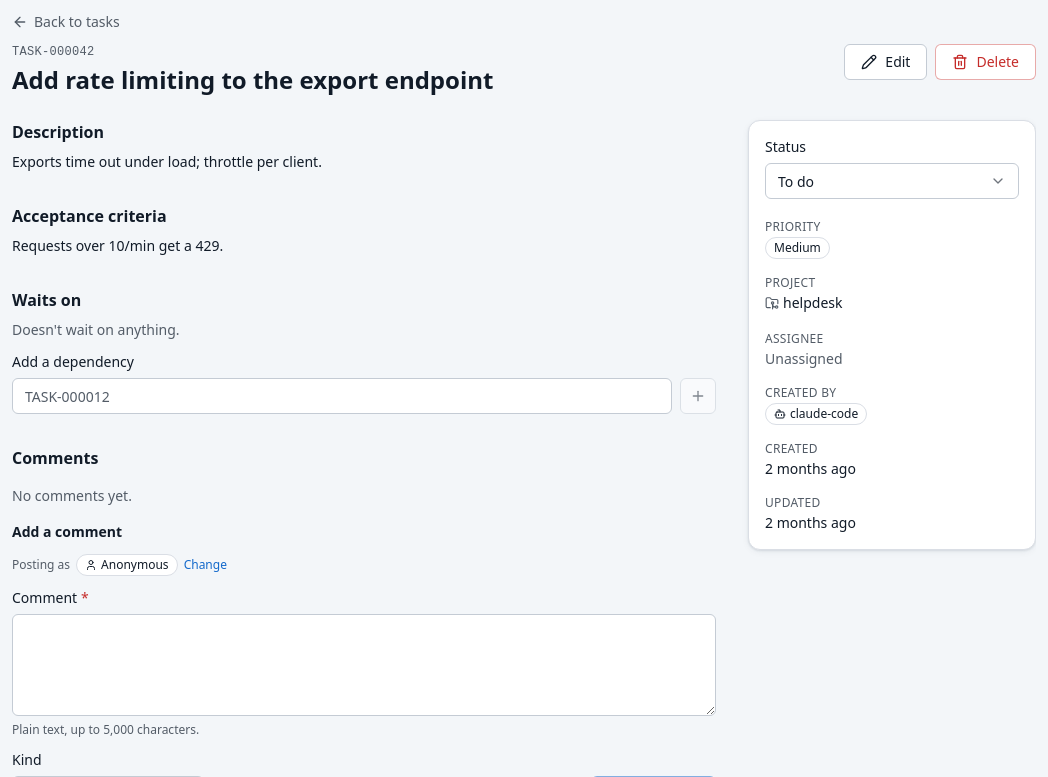
Scenario: TaskDetailPage — dependencies › puts a dependency cycle on the field, with the loop spelled out
This screenshot has width=1048, height=777.
Type "12" into the field labelled "Add a dependency" at (342, 396), box [12,378,672,414]
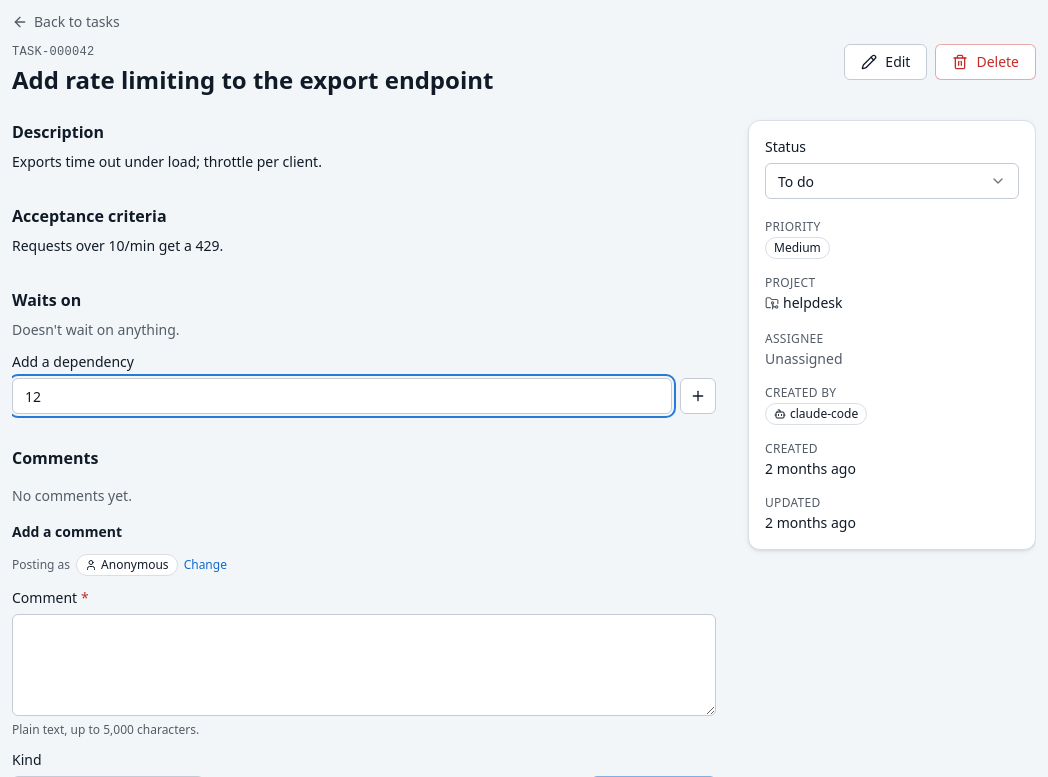
Click the button named "Add dependency" at (698, 396), box [680,378,716,414]
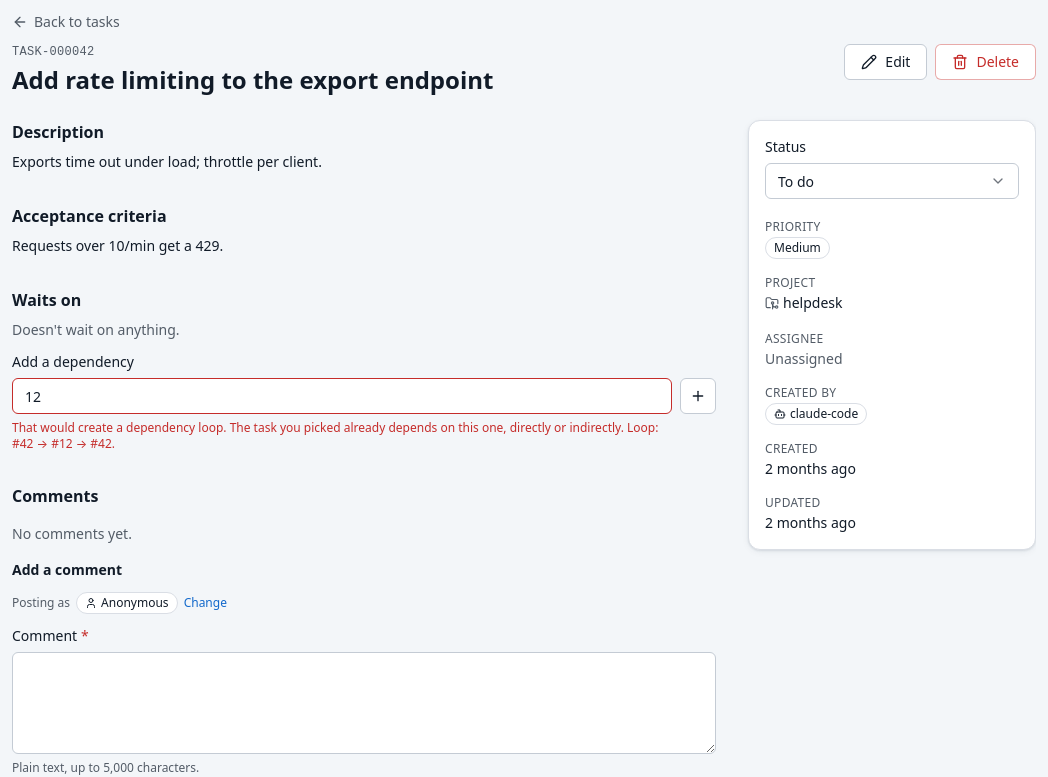
expect the text "#42 → #12 → #42" is shown: met, box [12,419,658,452]
